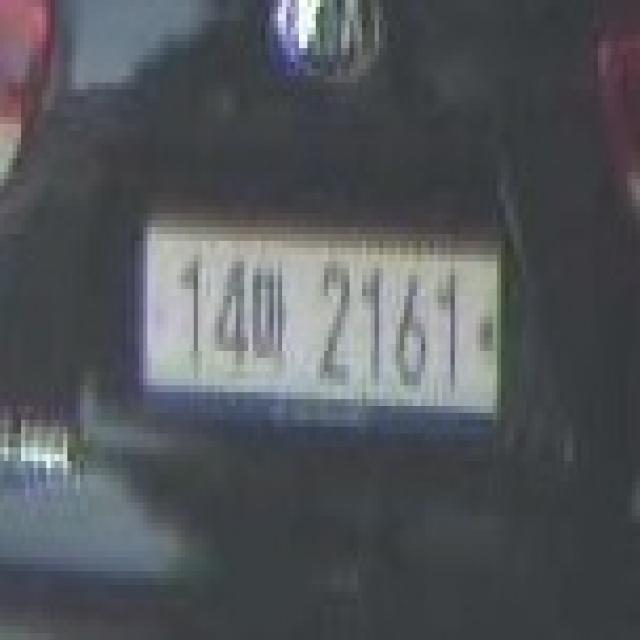1: (429, 268, 472, 406), (358, 255, 396, 406), (172, 248, 210, 378)
2: (311, 255, 358, 399)
4: (210, 254, 248, 386)
6: (396, 261, 434, 413)
license_plate: (134, 213, 514, 448)
ma: (248, 254, 299, 378)
